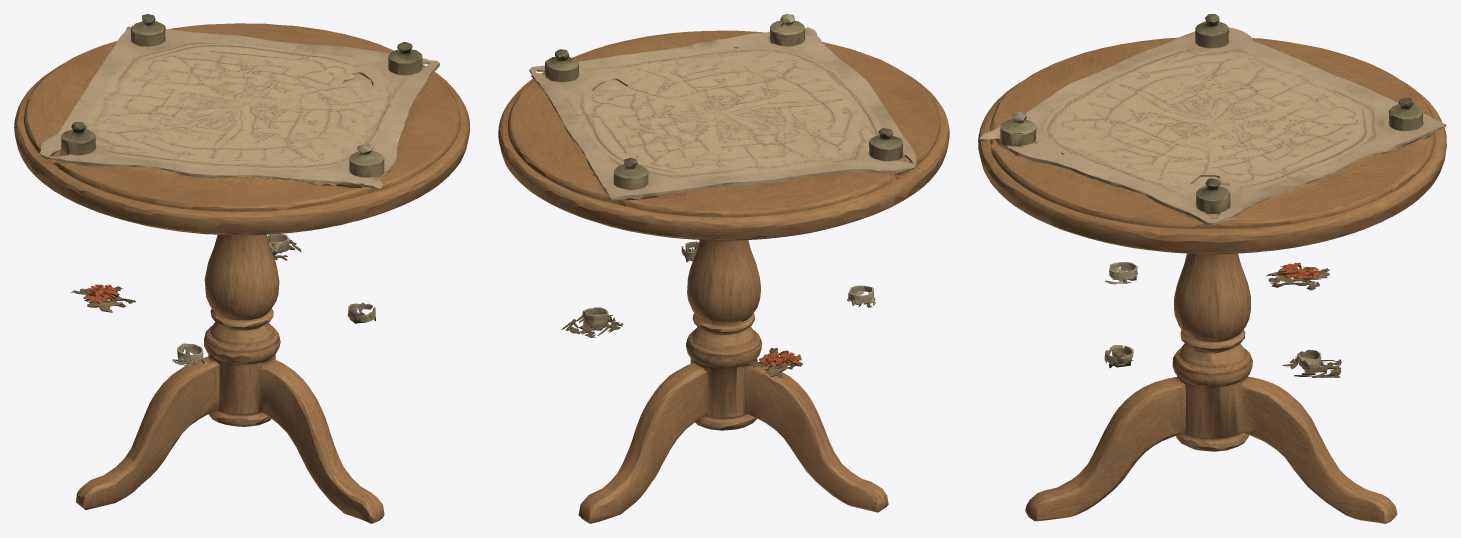
3 views of the same model, side by side, from view 1: azimuth 30°, elevation 25°; view 2: azimuth 150°, elevation 25°; view 3: azimuth 270°, elevation 25° (orthographic). The views are drawn at different scales.
Visible parts, largest first — view 1: world; view 2: world; view 3: world.
Part boxes in pixels (x1=…): world: x1=14, y1=14, x2=469, y2=523; world: x1=498, y1=14, x2=949, y2=523; world: x1=978, y1=14, x2=1446, y2=523.
Bounding box in the file's own units: 0.8022 × 0.75 × 0.8019.
1 material, 1 textured.
